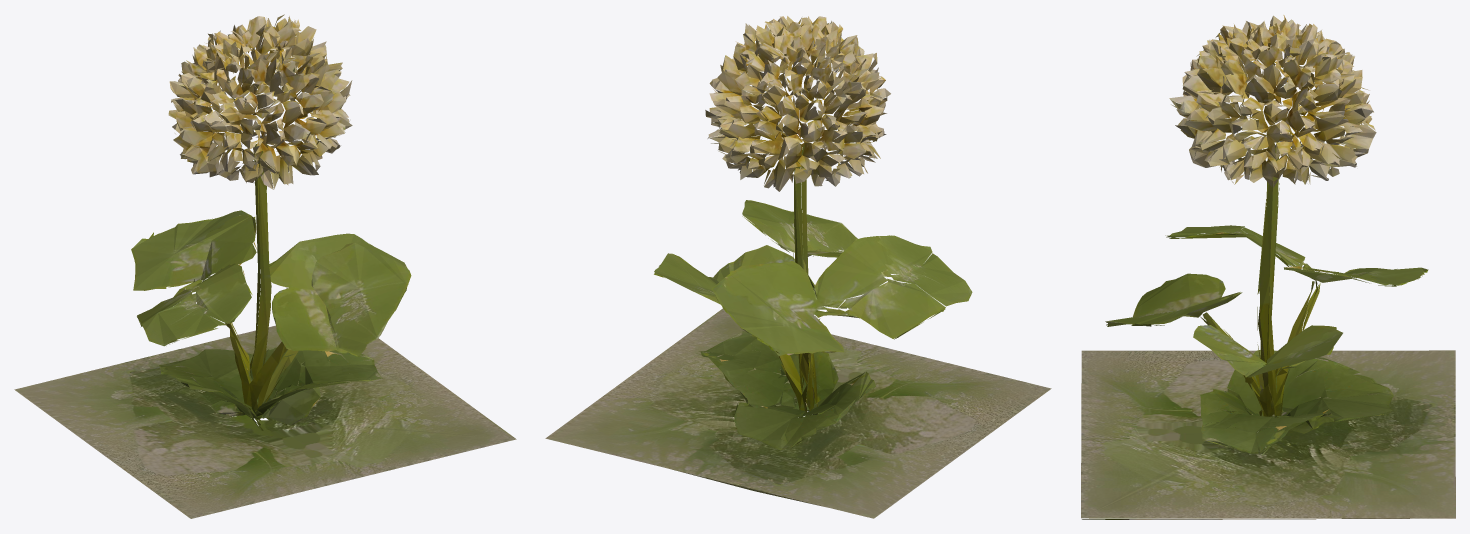
File: clover_ball.glb
3 renders of one model, left to right at view 1: azimuth 30°, elevation 25°; view 2: azimuth 150°, elevation 25°; view 3: azimuth 270°, elevation 25°, orthographic. The views are drawn at different scales.
Visible parts, largest first — view 1: textured.obj; view 2: textured.obj; view 3: textured.obj.
Part boxes in pixels (x1,y1,x2,y2): textured.obj: [14, 14, 516, 518]; textured.obj: [545, 16, 1051, 518]; textured.obj: [1081, 15, 1455, 519].
Bounding box in the file's own units: 0.1319 × 0.1503 × 0.1244.
1 material, 1 textured.
